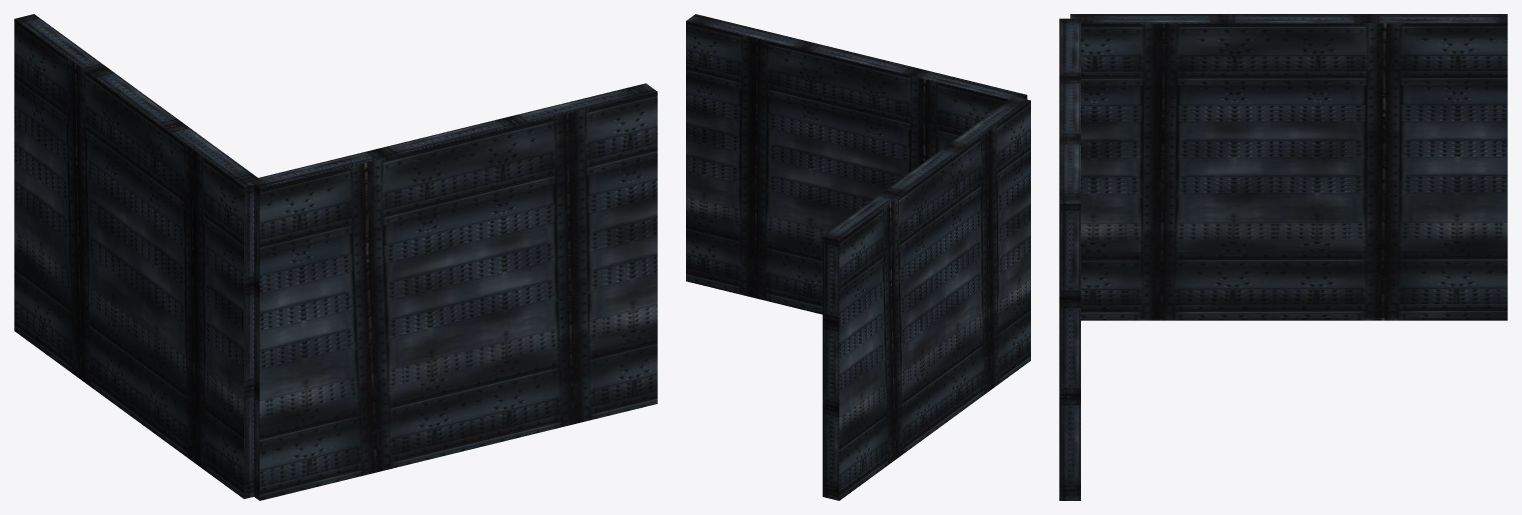
The model's file is L-Wall.glb.
The picture shows the model from 3 angles, left to right: view 1: azimuth 30°, elevation 25°; view 2: azimuth 150°, elevation 25°; view 3: azimuth 270°, elevation 25°; orthographic projection. The views are drawn at different scales.
Parts seen in each view (by area): view 1: Cube, Cube.001; view 2: Cube.001, Cube; view 3: Cube.001, Cube.
Part boxes in pixels (x1=…): Cube: x1=249, y1=83, x2=657, y2=500; Cube.001: x1=14, y1=14, x2=259, y2=498; Cube.001: x1=822, y1=97, x2=1030, y2=500; Cube: x1=686, y1=14, x2=1027, y2=314; Cube.001: x1=1070, y1=14, x2=1507, y2=320; Cube: x1=1059, y1=18, x2=1080, y2=500.
Size of the model in its own units: 8.2 by 6 by 8.2.
1 material, 1 textured.
